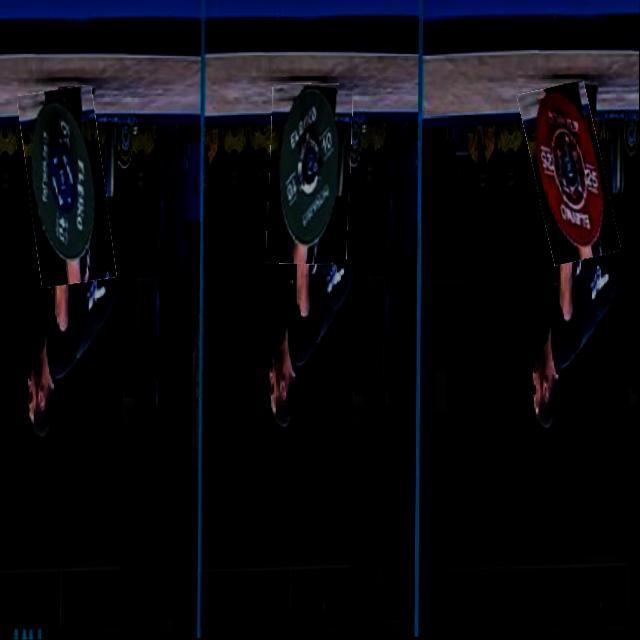barbell: (24, 88, 113, 287), (526, 85, 614, 266), (269, 84, 353, 265)
